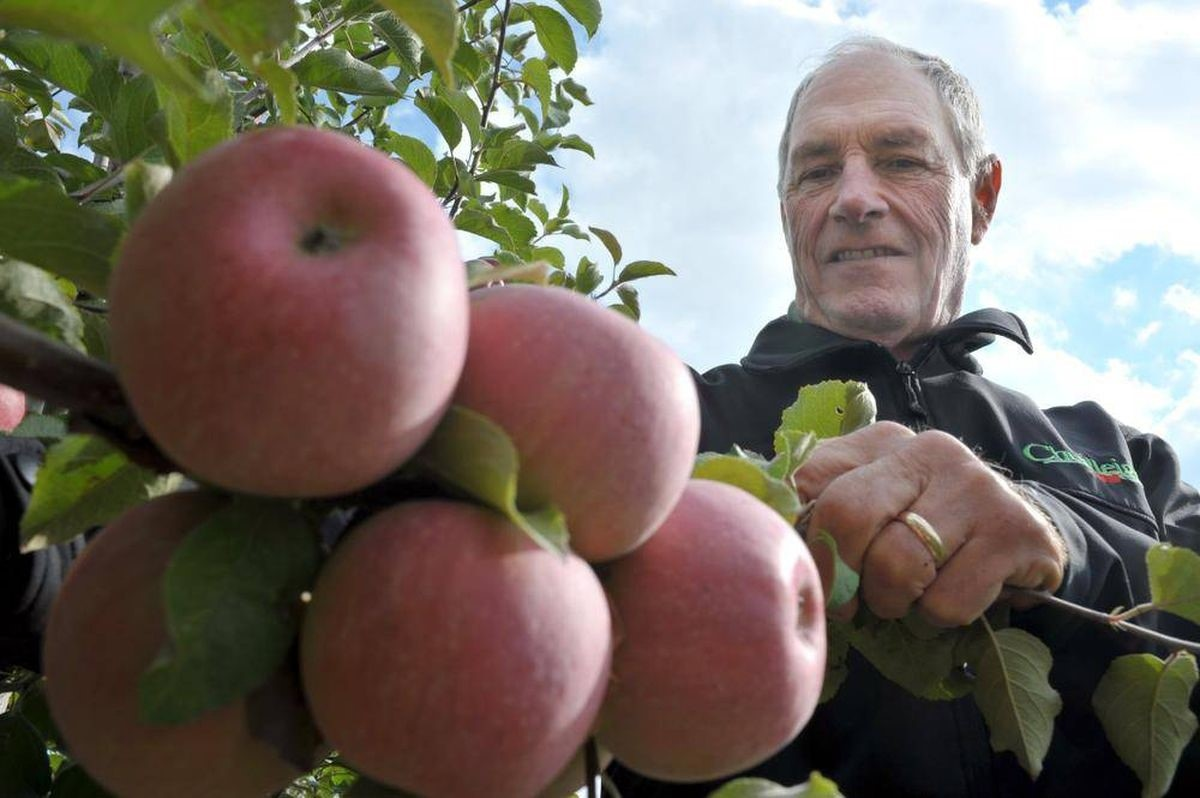face_no_mask: (779, 39, 999, 341)
